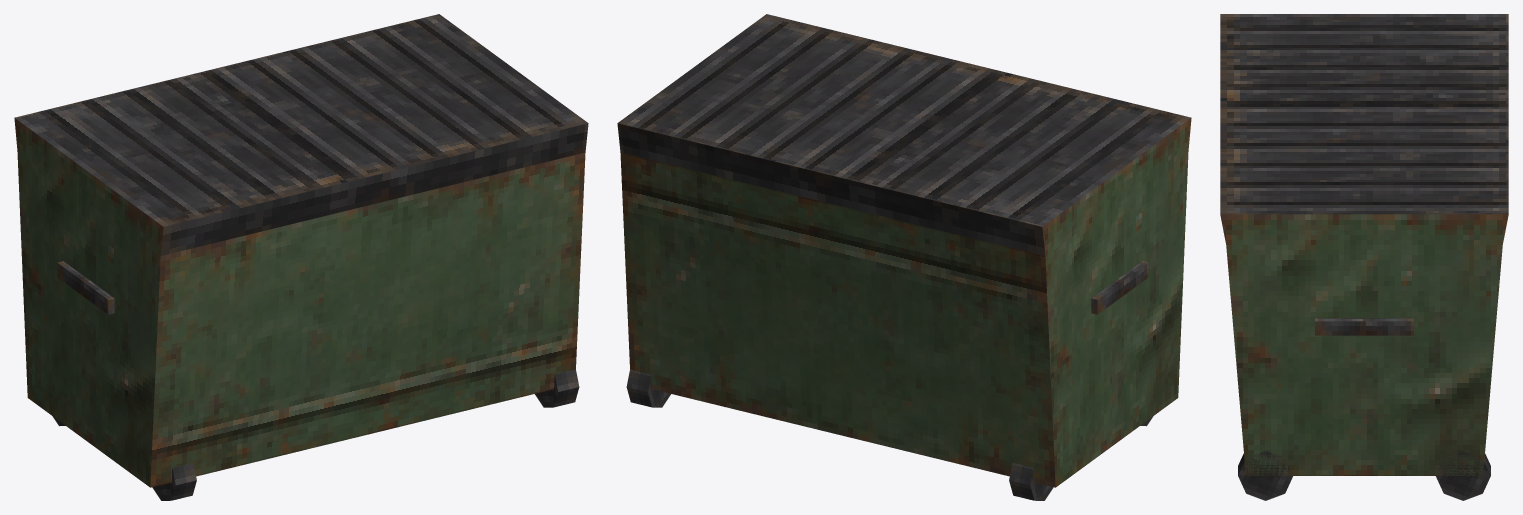
The model's file is dumpster.glb.
3 renders of one model, left to right at view 1: azimuth 30°, elevation 25°; view 2: azimuth 150°, elevation 25°; view 3: azimuth 270°, elevation 25°, orthographic. The views are drawn at different scales.
Parts seen in each view (by area): view 1: Model; view 2: Model; view 3: Model.
Part boxes in pixels (left/top/right/bottom): Model: left=14, top=14, right=588, bottom=500; Model: left=617, top=14, right=1191, bottom=500; Model: left=1220, top=14, right=1508, bottom=500.
Bounding box in the file's own units: 2.47 × 1.6 × 1.46.
Materials: 1 (1 with a texture image).
